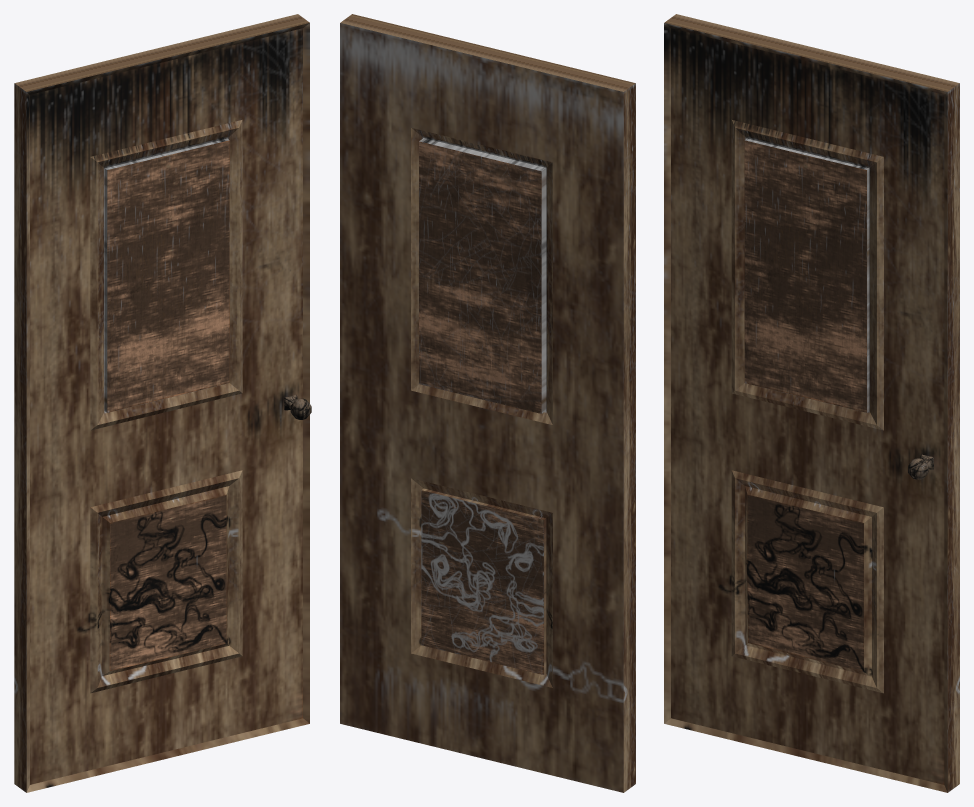
Rendered from door.glb.
3 views of the same model, side by side, from view 1: azimuth 30°, elevation 25°; view 2: azimuth 150°, elevation 25°; view 3: azimuth 330°, elevation 25° (orthographic).
Bounding box in the file's own units: 38.32 × 90.51 × 6.77.
1 material, 1 textured.
